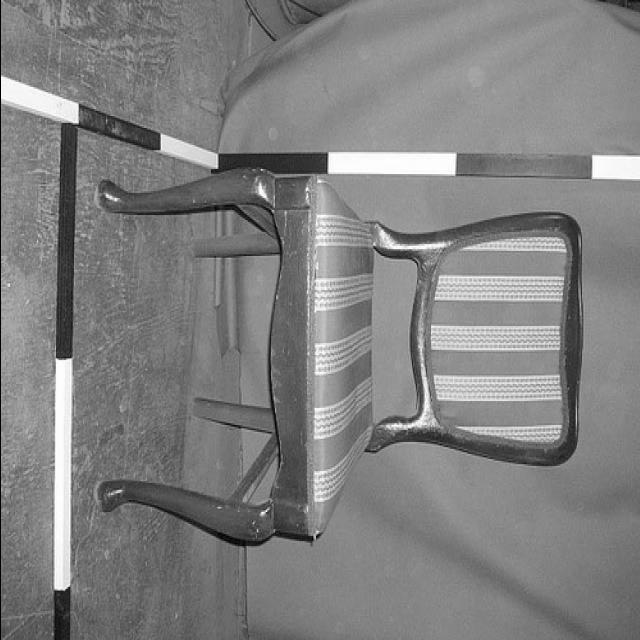chair: (97, 166, 585, 546)
